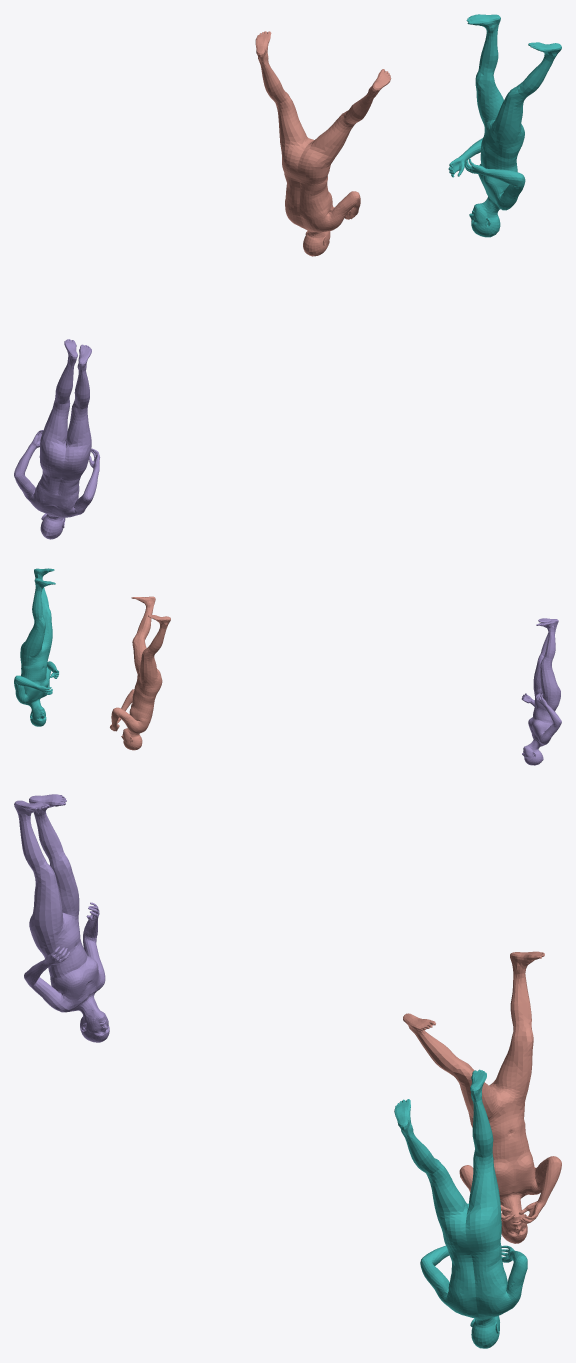
Rendered from all_people_native_world.glb.
The picture shows the model from 3 angles, top to bottom: view 1: azimuth 30°, elevation 25°; view 2: azimuth 150°, elevation 25°; view 3: azimuth 270°, elevation 25°; orthographic projection. The views are drawn at different scales.
Parts seen in each view (by area): view 1: persistent_id_0_slot_0, persistent_id_1_slot_1, persistent_id_2_slot_2; view 2: persistent_id_0_slot_0, persistent_id_1_slot_1, persistent_id_2_slot_2; view 3: persistent_id_1_slot_1, persistent_id_0_slot_0, persistent_id_2_slot_2.
Part boxes in pixels (x1,y1,x2,y2): persistent_id_0_slot_0: [255, 31, 391, 256]; persistent_id_1_slot_1: [448, 14, 561, 237]; persistent_id_2_slot_2: [14, 339, 100, 539]; persistent_id_0_slot_0: [110, 596, 170, 750]; persistent_id_1_slot_1: [14, 568, 58, 726]; persistent_id_2_slot_2: [521, 618, 561, 765]; persistent_id_1_slot_1: [394, 1069, 527, 1348]; persistent_id_0_slot_0: [403, 951, 561, 1243]; persistent_id_2_slot_2: [14, 794, 109, 1042].
Bounding box in the file's own units: 5.54 × 2.1 × 3.26.
